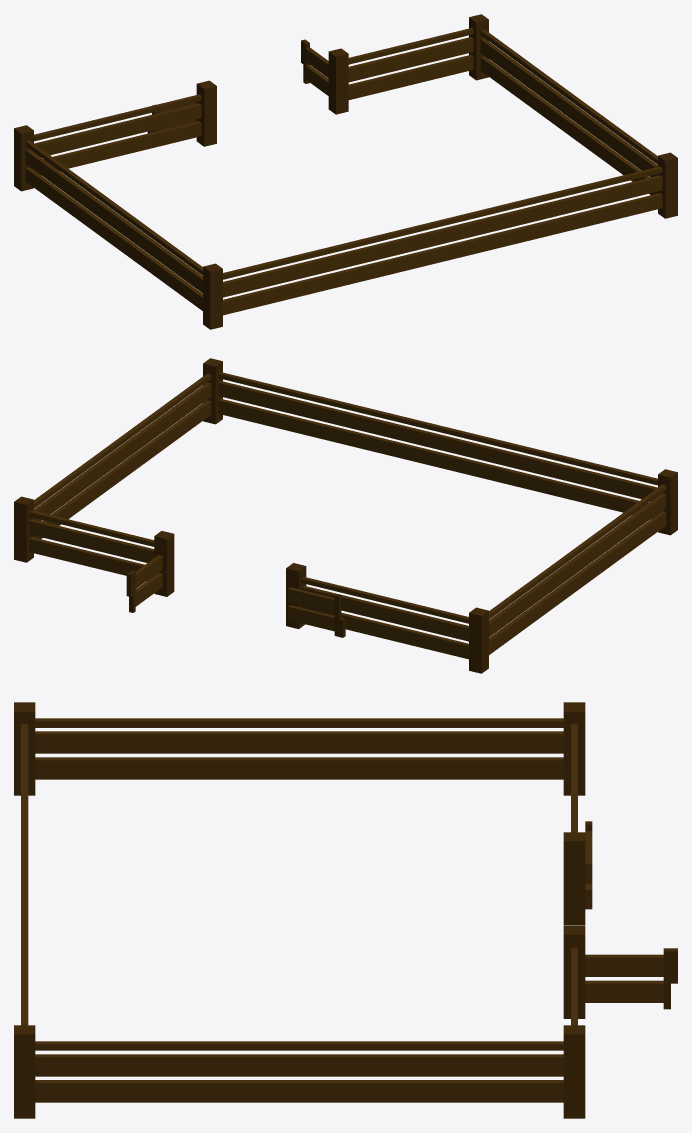
Rendered from Estábulo.obj.
3 renders of one model, top to bottom at view 1: azimuth 30°, elevation 25°; view 2: azimuth 150°, elevation 25°; view 3: azimuth 270°, elevation 25°, orthographic. The views are drawn at different scales.
Bounding box in the file's own units: 11 × 1.3 × 9.3.
1 material, 1 textured.
